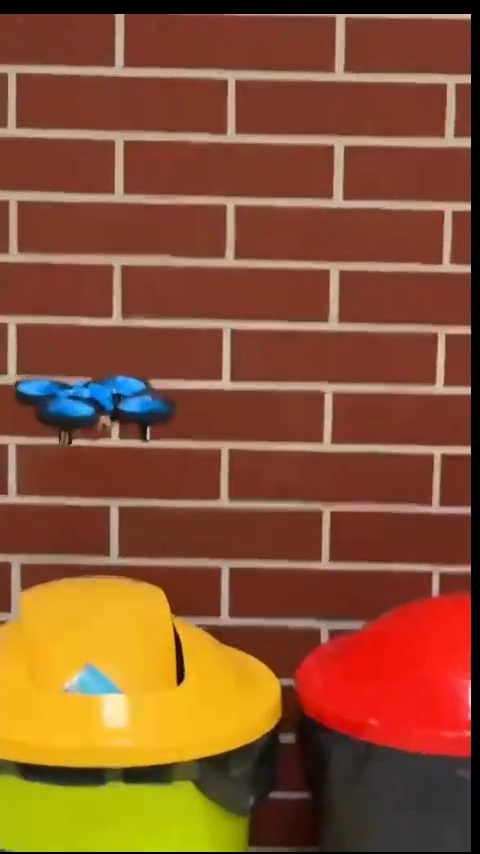drone: (14, 374, 175, 450)
